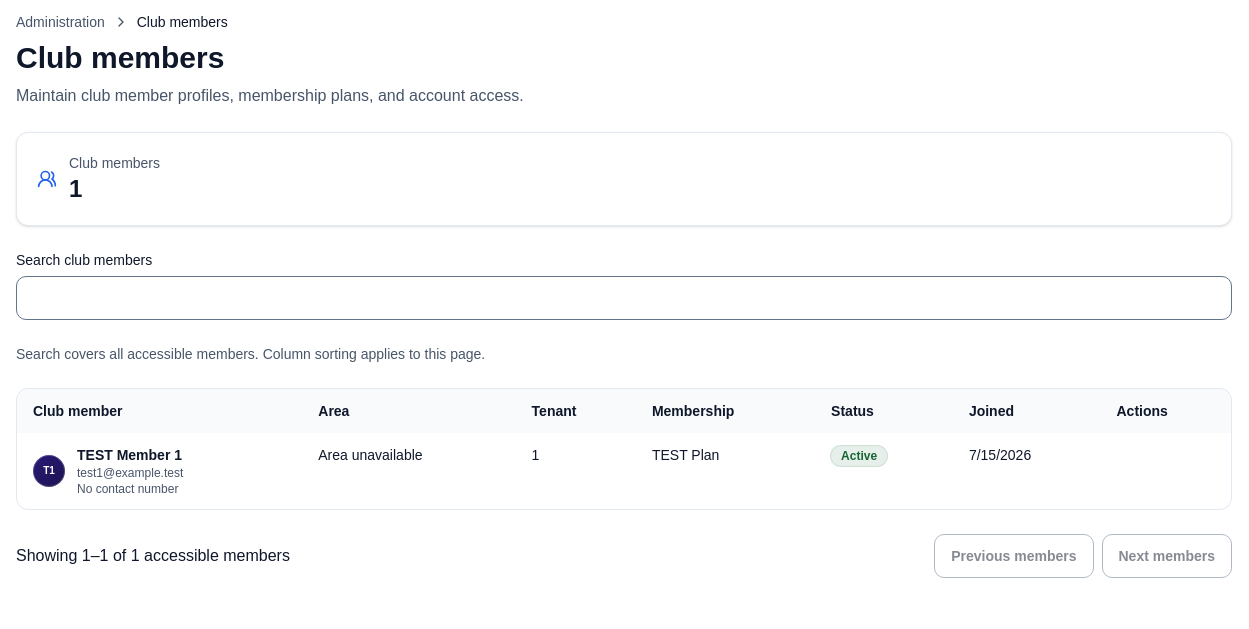
Test: AdminMembers › keeps unavailable Area evidence and failed reads distinct from zero members
The image size is (1249, 629).
Expected: the text "Area unavailable" is shown, [318,447,423,463]
Type "unavailable" into the search field labelled "Search club members" at (624, 298), box [16,276,1232,320]
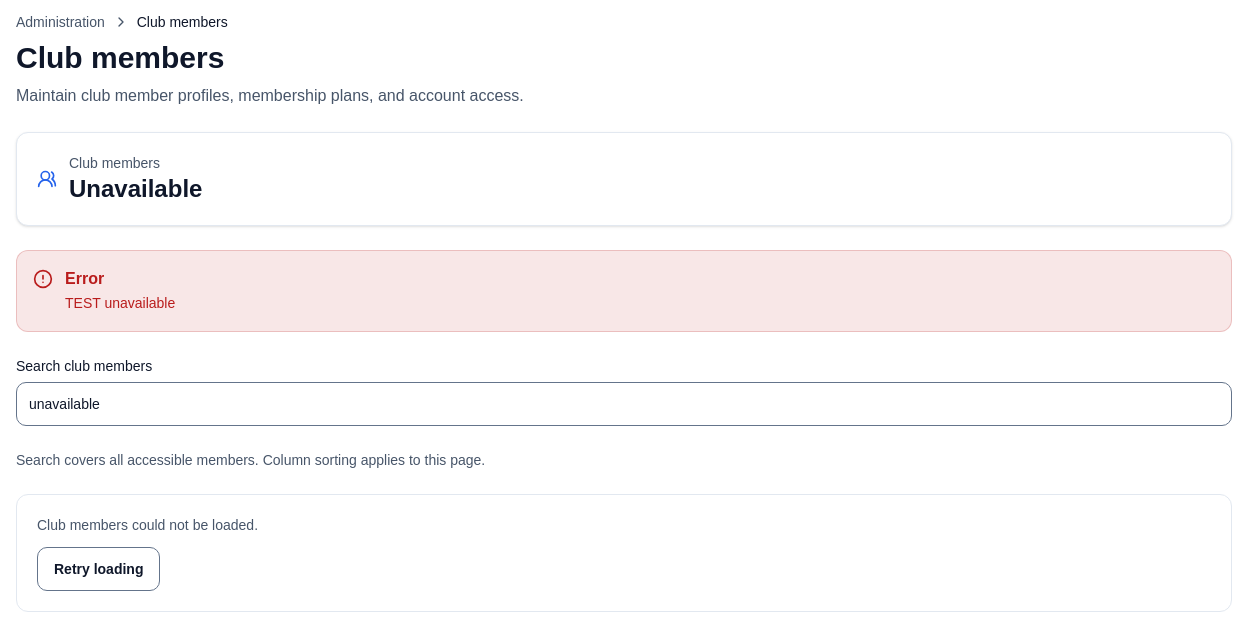
Now the text "Club members could not be loaded." is shown, box [37,515,258,535]
Now the text "Unavailable" is shown, box [69,173,202,205]
